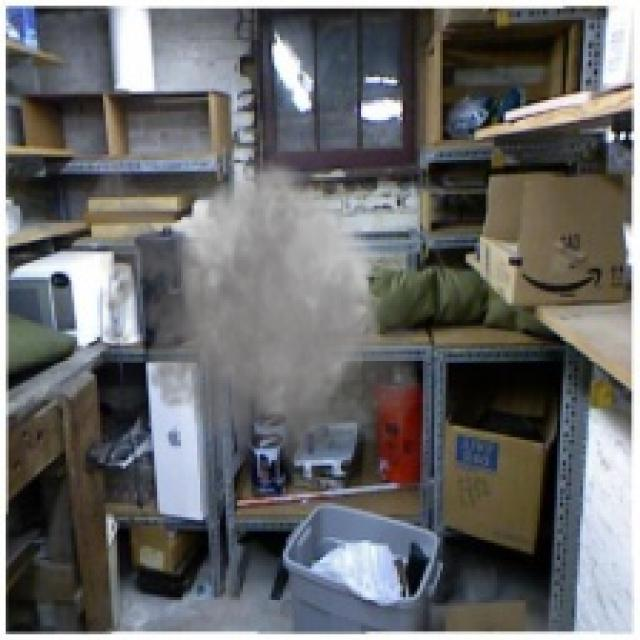Smoke: (80, 91, 432, 492)
